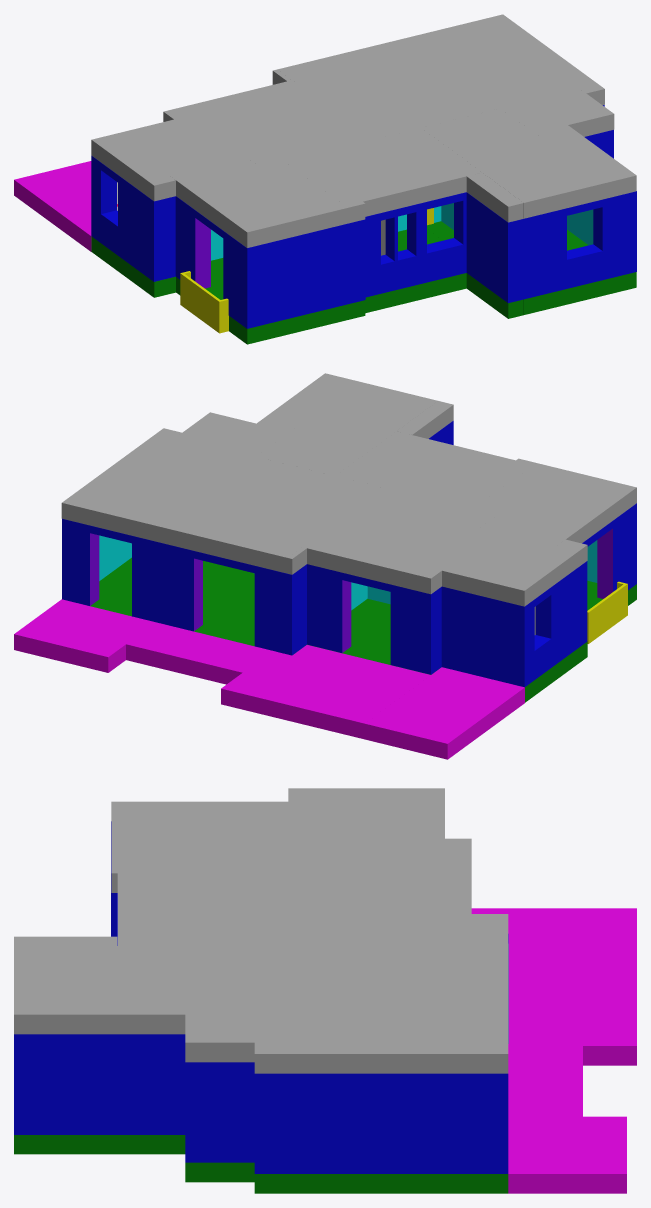
Rendered from FloorplanFBX.fbx.
The picture shows the model from 3 angles, top to bottom: view 1: azimuth 30°, elevation 25°; view 2: azimuth 150°, elevation 25°; view 3: azimuth 270°, elevation 25°; orthographic projection. The views are drawn at different scales.
Parts seen in each view (by area): view 1: Kitchen_Living, Bedroom02 (×2), Bedroom04 (×2), Wall9, Bedroom05 (×2), Wall33, Bedroom01, Bath01 (×2), Wall10, Wall2, Wall1, Bath02 (×2) (+9 smaller); view 2: Terrace, Kitchen_Living (×2), Bedroom01 (×2), Wall8, Bedroom02 (×2), Bath01 (×2), Bedroom04, Wall6, Wall2, Bedroom05, Wall12, Bath02 (+8 smaller); view 3: Kitchen_Living (×2), Terrace, Wall4, Bedroom04 (×2), Wall13, Bedroom02, Bedroom01, Bedroom05, Bath01, Entrance (×2), Wall32, Bath02 (+5 smaller).
Boxes of the visible parts, <box> form: Kitchen_Living: <box>278,14,598,139</box>; Bedroom02 (×2): <box>145,155,347,344</box>; Bedroom04 (×2): <box>462,122,636,318</box>; Wall9: <box>508,191,636,302</box>; Bedroom05 (×2): <box>337,123,481,304</box>; Wall33: <box>246,219,365,324</box>; Bedroom01: <box>179,69,356,154</box>; Bath01 (×2): <box>91,108,243,290</box>; Wall10: <box>365,192,466,297</box>; Wall2: <box>91,155,169,281</box>; Wall1: <box>175,196,262,328</box>; Bath02 (×2): <box>284,148,398,319</box>; Terrace: <box>14,599,524,759</box>; Kitchen_Living (×2): <box>61,432,382,646</box>; Bedroom01 (×2): <box>287,500,479,670</box>; Wall8: <box>62,518,275,651</box>; Bedroom02 (×2): <box>473,463,636,663</box>; Bath01 (×2): <box>415,527,578,702</box>; Bedroom04: <box>253,373,453,445</box>; Wall6: <box>307,564,441,674</box>; Wall2: <box>509,561,587,687</box>; Bedroom05: <box>317,431,480,496</box>; Wall12: <box>441,586,515,684</box>; Bath02: <box>420,452,535,509</box>; Kitchen_Living (×2): <box>270,917,508,1193</box>; Terrace: <box>471,908,636,1193</box>; Wall4: <box>254,1073,508,1173</box>; Bedroom04 (×2): <box>14,936,194,1154</box>; Wall13: <box>14,1034,185,1134</box>; Bedroom02: <box>111,788,310,862</box>; Bedroom01: <box>310,848,508,916</box>; Bedroom05: <box>117,895,269,956</box>; Bath01: <box>310,788,471,847</box>; Entrance (×2): <box>185,994,269,1193</box>; Wall32: <box>185,1062,254,1162</box>; Bath02: <box>111,862,269,894</box>.
Size of the model in its own units: 1448 by 355 by 1434.
